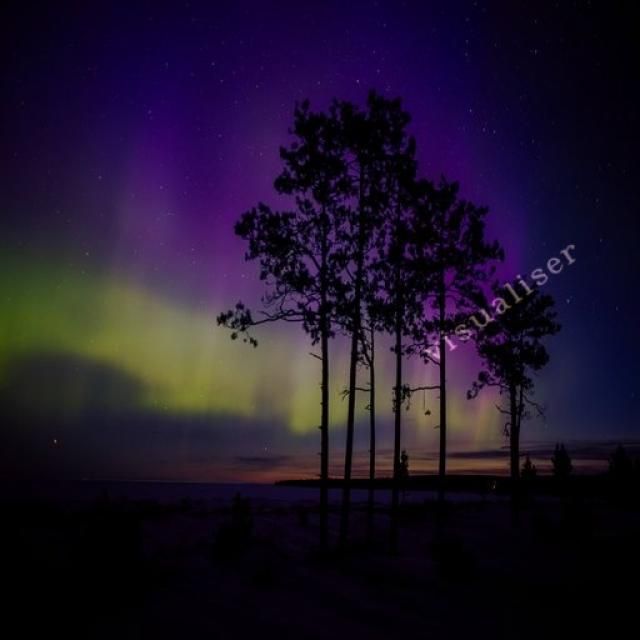watermark: (422, 230, 582, 369)
